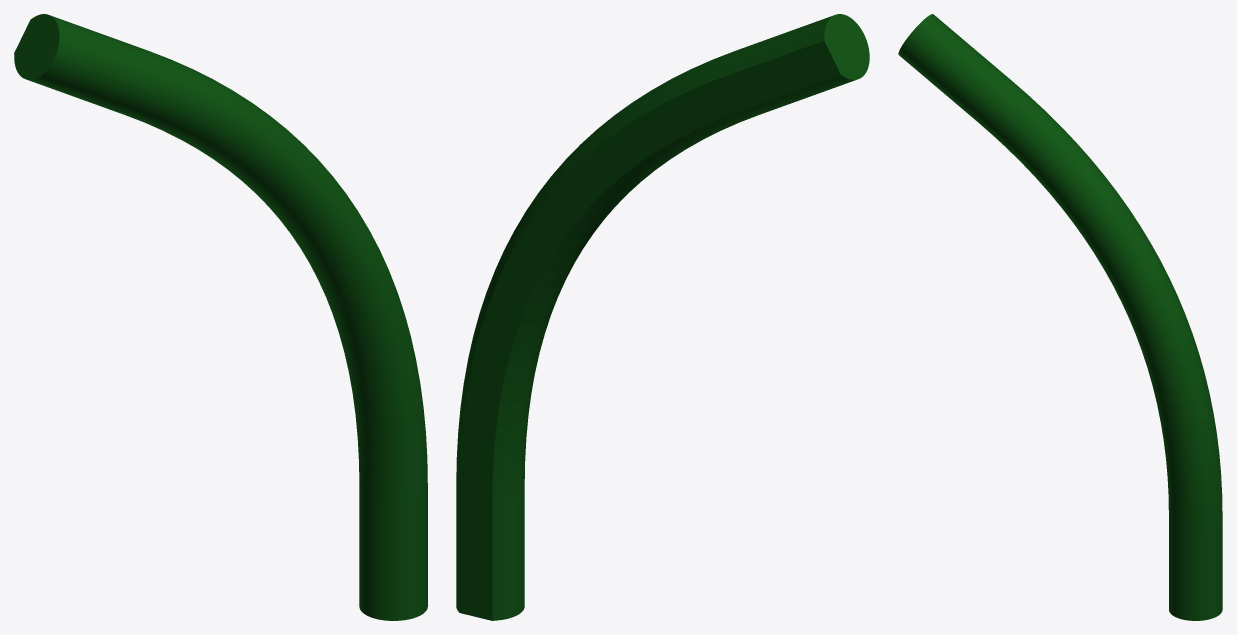
The model's file is stem_3B_60_L.glb.
3 renders of one model, left to right at view 1: azimuth 30°, elevation 25°; view 2: azimuth 150°, elevation 25°; view 3: azimuth 330°, elevation 25°, orthographic. The views are drawn at different scales.
Visible parts, largest first — view 1: stem_3B_60_L; view 2: stem_3B_60_L; view 3: stem_3B_60_L.
Part boxes in pixels (bbox=[...]): stem_3B_60_L: bbox=[14, 14, 427, 620]; stem_3B_60_L: bbox=[456, 14, 869, 620]; stem_3B_60_L: bbox=[898, 14, 1222, 620].
Bounding box in the file's own units: 0.0487 × 0.0781 × 0.00666.
